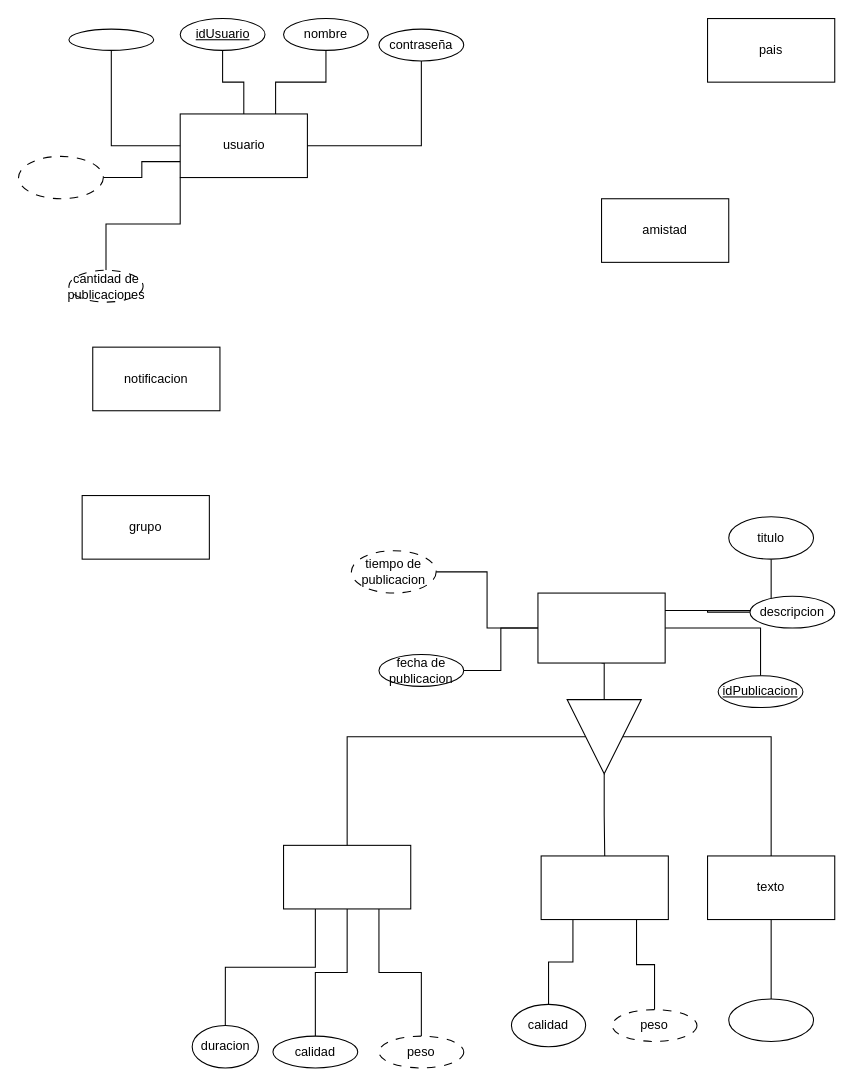
This 853x1087 diagram has some shape labels left out. Each missing label, with the centre of its shape:
"cantidad de amigos" goes at point 60,177.
"correo" goes at point 111,39.
"imagen" goes at point 604,887.
"largo" goes at point 771,1019.
"publicacion" goes at point 601,627.
"tipo de publicacion" goes at point 603,736.
"video" goes at point 346,876.
